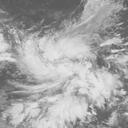cyclone: (15, 31, 97, 92)
